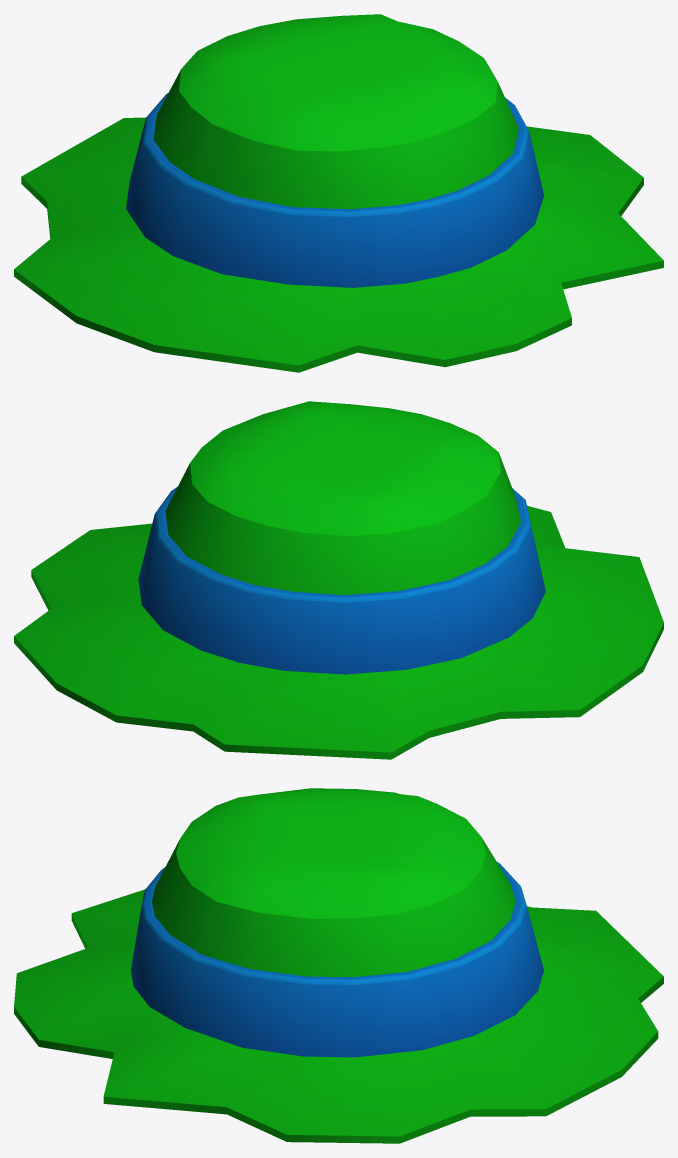
Rendered from rock_Hat.fbx.
3 views of the same model, one above another, from view 1: azimuth 30°, elevation 25°; view 2: azimuth 150°, elevation 25°; view 3: azimuth 270°, elevation 25° (orthographic). The views are drawn at different scales.
Visible parts, largest first — view 1: Stickman_heads_sphere.001; view 2: Stickman_heads_sphere.001; view 3: Stickman_heads_sphere.001.
Boxes of the visible parts, x1,y1,x2,y2 form: Stickman_heads_sphere.001: (14,14,663,372); Stickman_heads_sphere.001: (14,401,663,759); Stickman_heads_sphere.001: (14,788,663,1143).
Size of the model in its own units: 0.8624 by 0.2503 by 0.8627.
Materials: 1 (1 with a texture image).
